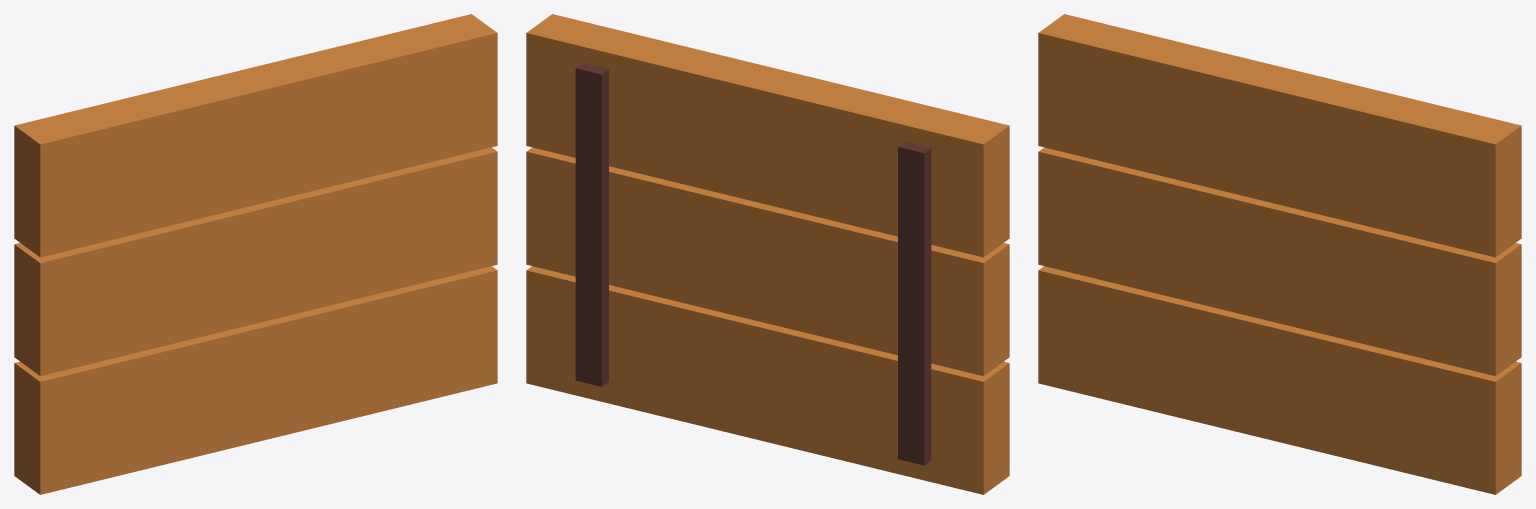
File: signboard_planch.fbx
3 renders of one model, left to right at view 1: azimuth 30°, elevation 25°; view 2: azimuth 150°, elevation 25°; view 3: azimuth 330°, elevation 25°, orthographic.
Parts seen in each view (by area): view 1: Cube.003; view 2: Cube.003; view 3: Cube.003.
Boxes of the visible parts, x1,y1,x2,y2 form: Cube.003: (14, 14, 497, 494); Cube.003: (526, 14, 1009, 494); Cube.003: (1038, 14, 1521, 494).
Size of the model in its own units: 60.98 by 44.67 by 7.6.
